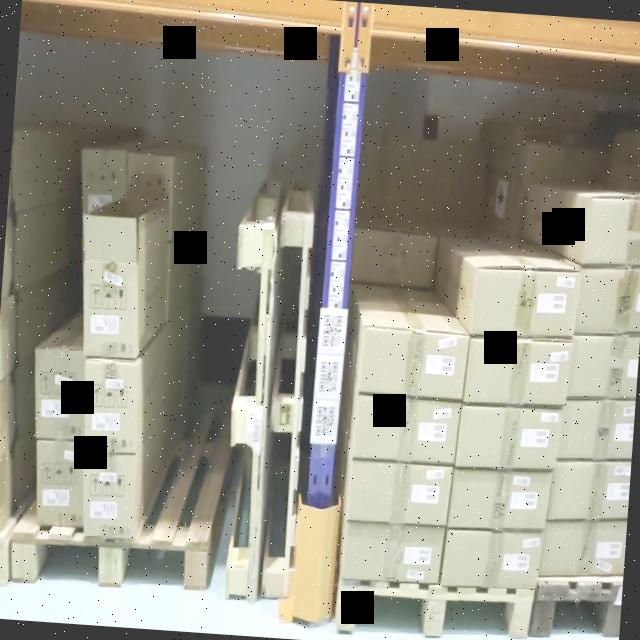box: (464, 337, 568, 408), (359, 329, 464, 399), (352, 396, 460, 464), (474, 268, 576, 333), (458, 404, 558, 470), (449, 466, 548, 532), (347, 463, 449, 526), (443, 528, 538, 590), (342, 523, 440, 581), (82, 263, 139, 356), (550, 459, 630, 525), (542, 518, 626, 578), (86, 362, 138, 452), (350, 233, 434, 284), (34, 354, 85, 437), (82, 458, 136, 536), (35, 443, 84, 522), (570, 338, 639, 394), (562, 404, 634, 456), (577, 271, 640, 327), (588, 199, 640, 261)
